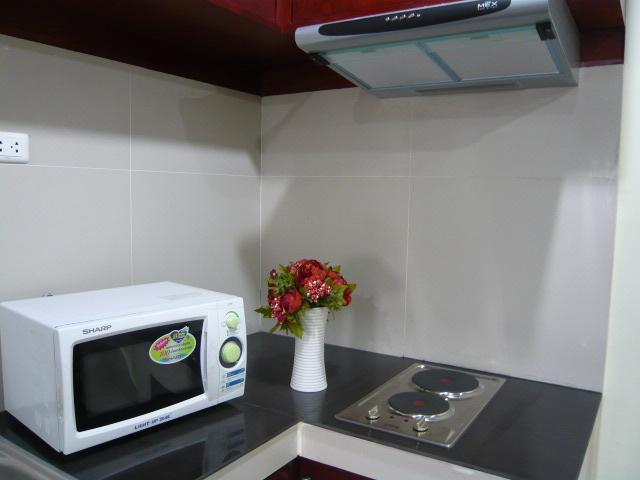Electrodomestico: (5, 293, 243, 427), (334, 345, 514, 457)
